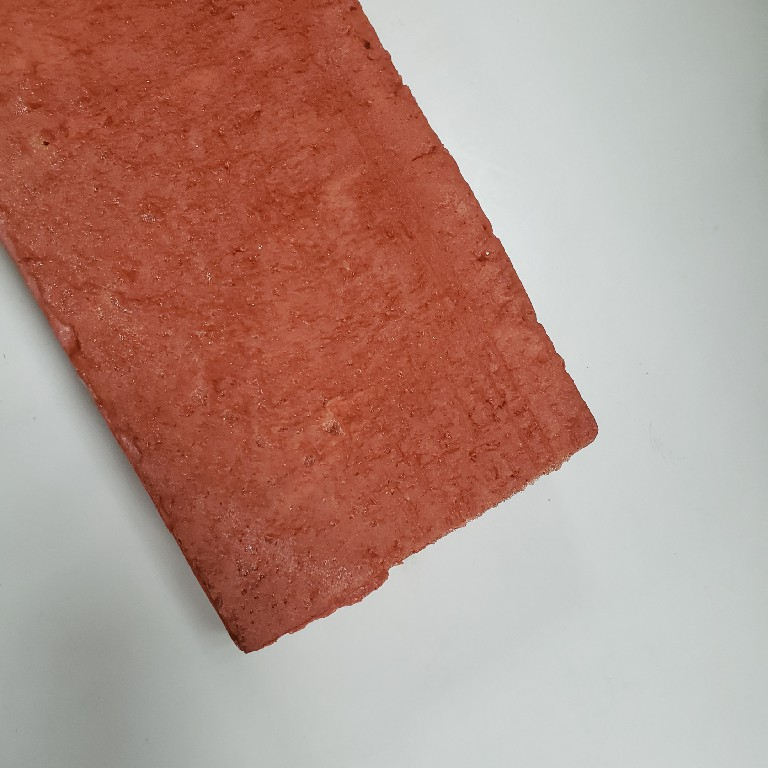brick: (1, 1, 606, 661)
